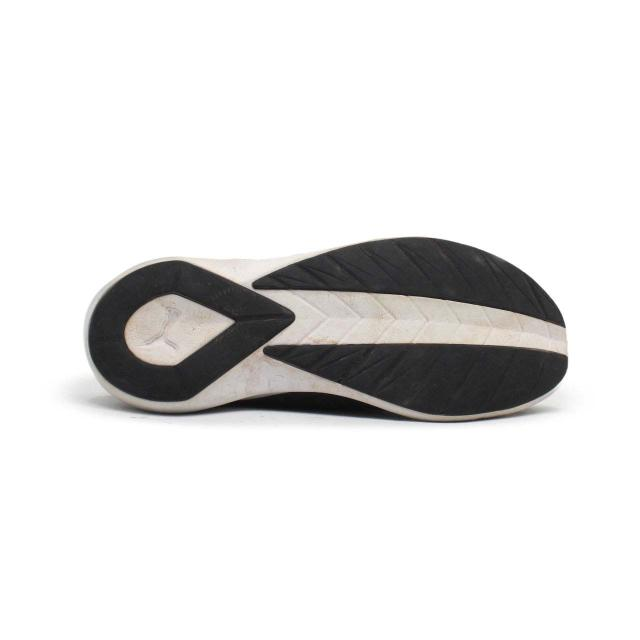outersole: (86, 235, 566, 425)
